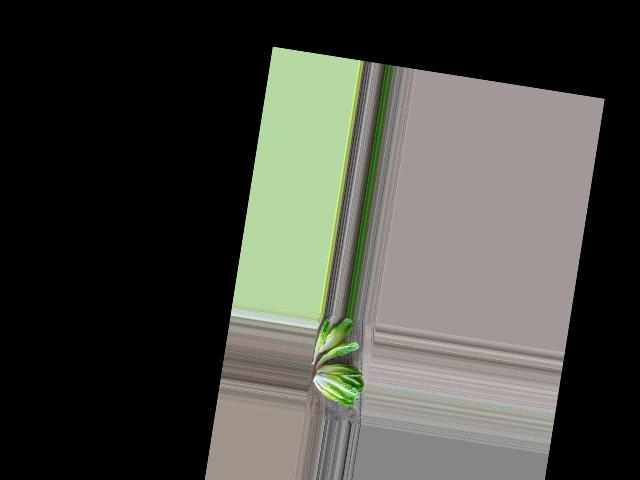lettuce: (310, 358, 366, 409)
